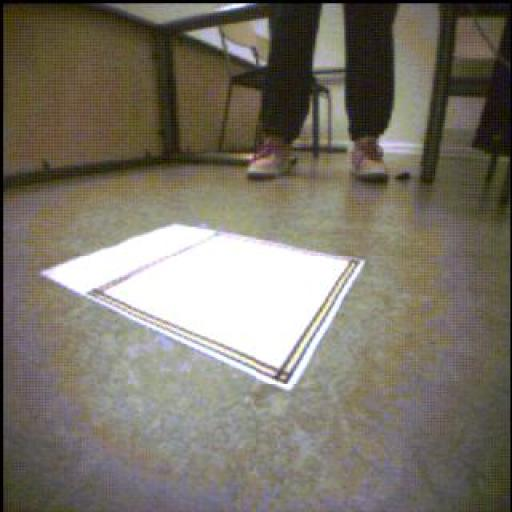Pad: (43, 225, 364, 391)
